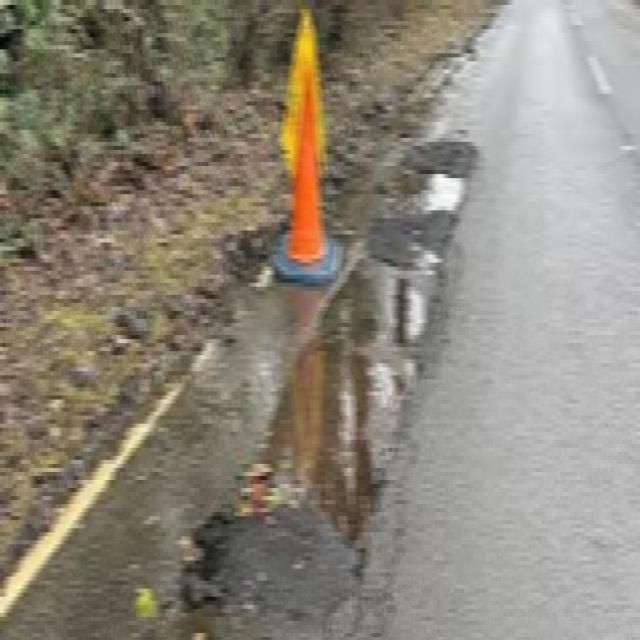Pothole: (150, 248, 450, 591), (374, 144, 476, 218)
